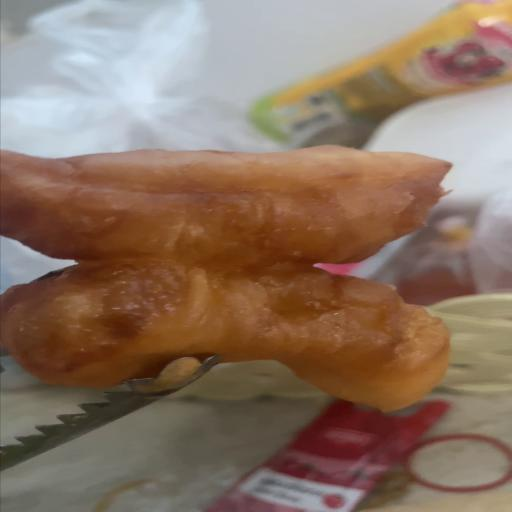street_burnt_good: (0, 146, 451, 411), (283, 292, 290, 295)
